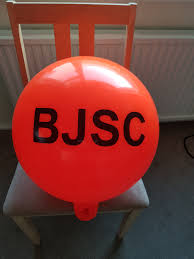buoy: (9, 57, 160, 205)
